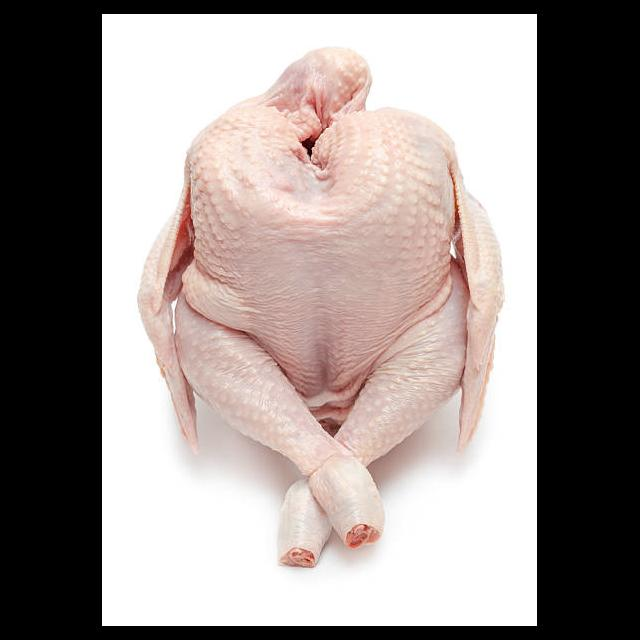chicken: (132, 46, 502, 570)
